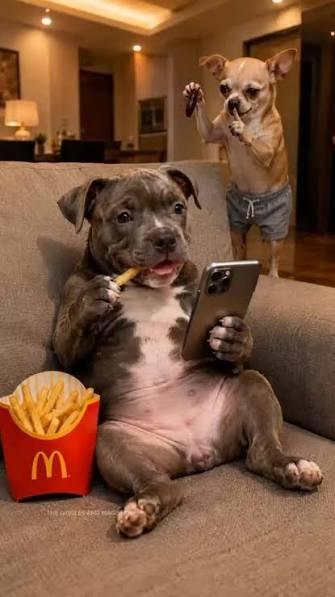adult_dog: (41, 165, 324, 539), (180, 48, 302, 281)
